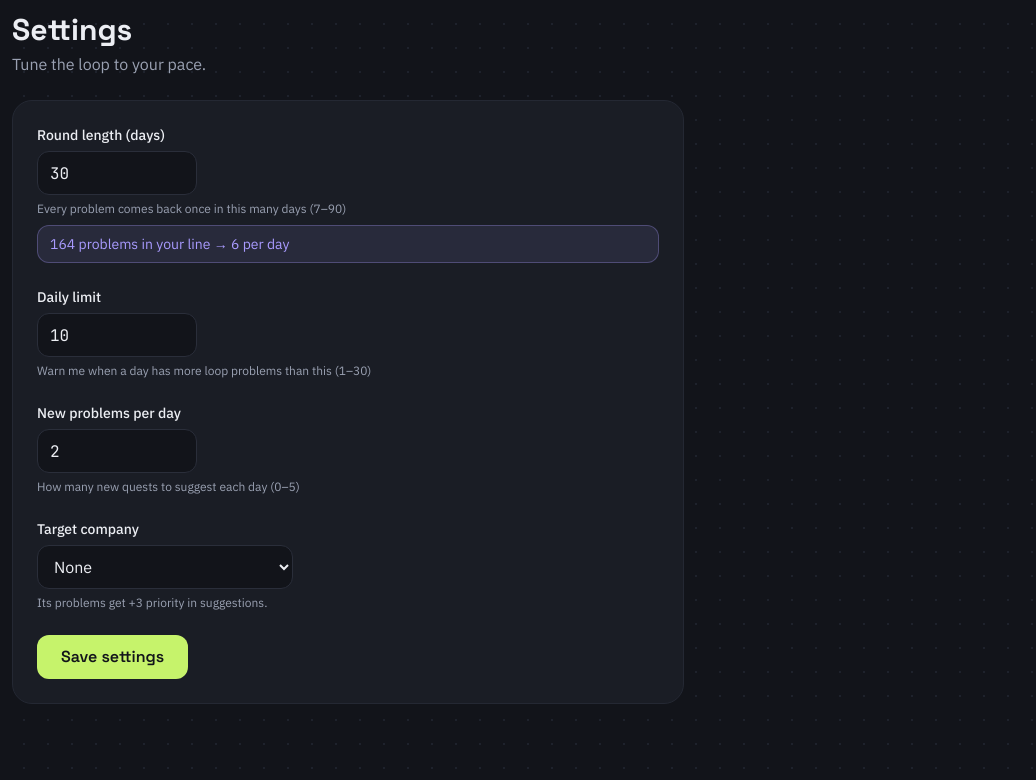
Scenario: Settings page › updates the per-day preview while typing
Replace the text in the number field labelled "Round length (days)" with "60" at [117, 173], box [37,151,197,195]
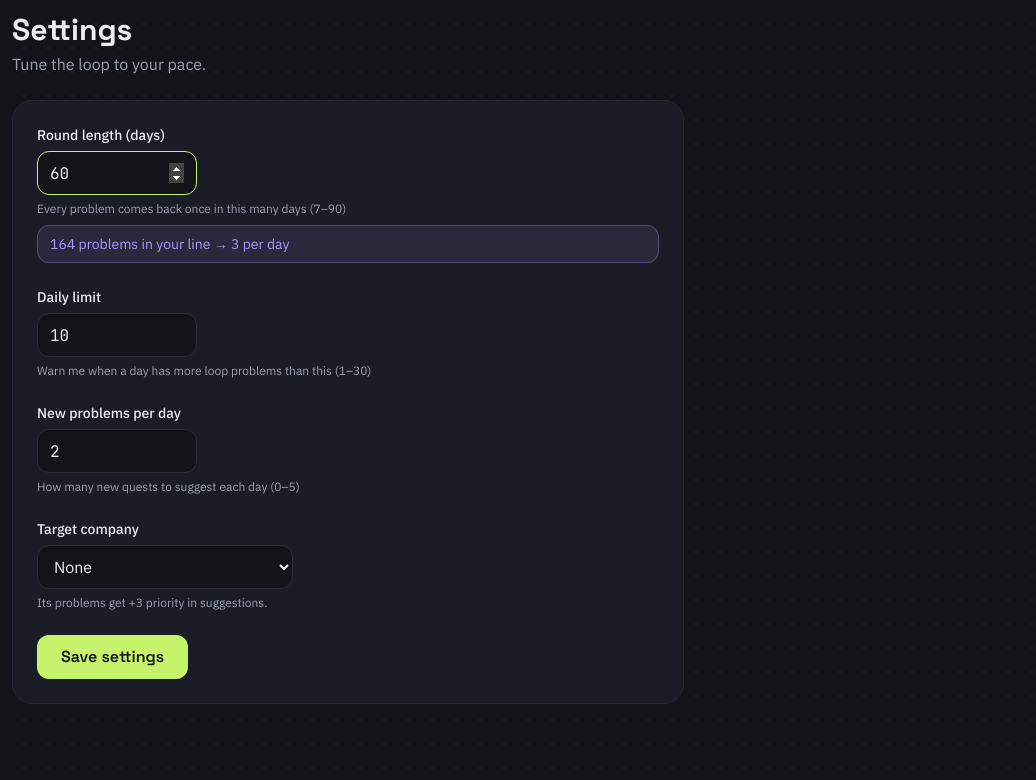
Expected: the button "164 problems in your line → 3 per day" is shown, [37,225,659,263]
